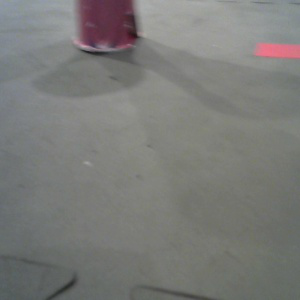middle: (69, 1, 145, 53)
